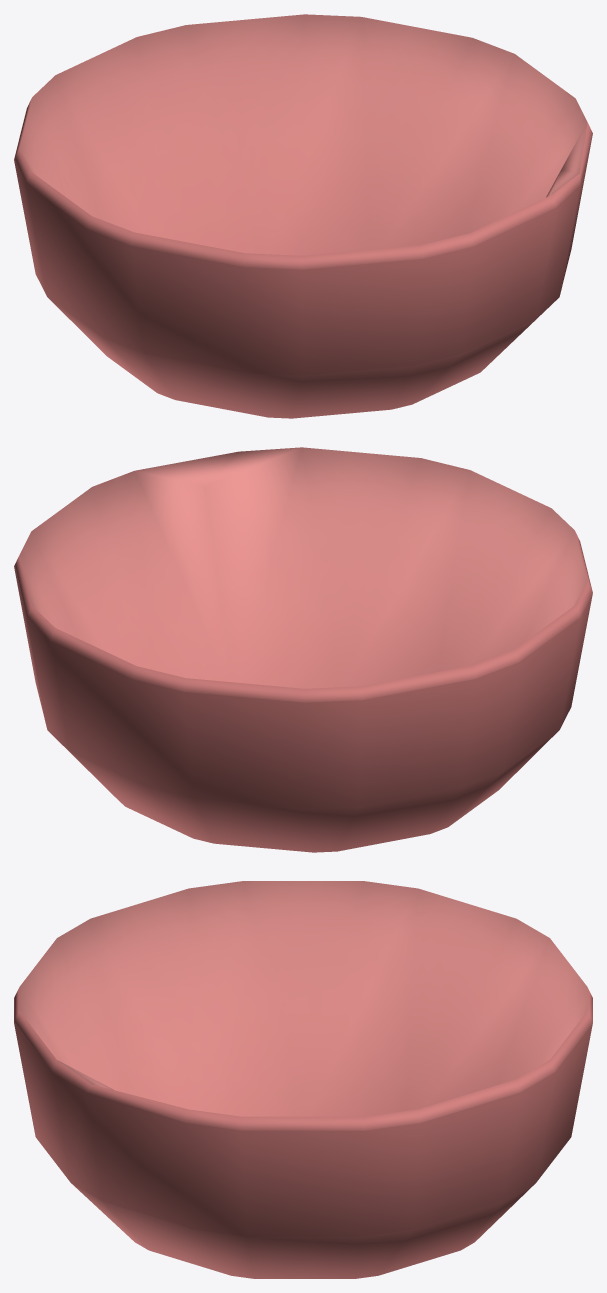
File: Bowl_D.FBX
3 views of the same model, one above another, from view 1: azimuth 30°, elevation 25°; view 2: azimuth 150°, elevation 25°; view 3: azimuth 270°, elevation 25° (orthographic).
Visible parts, largest first — view 1: Bowl; view 2: Bowl; view 3: Bowl.
Boxes of the visible parts, box(x1,y1,x2,y2) form: Bowl: box(14, 14, 592, 418); Bowl: box(14, 447, 592, 852); Bowl: box(14, 881, 592, 1278).
Bounding box in the file's own units: 74.62 × 28.7 × 75.96.
